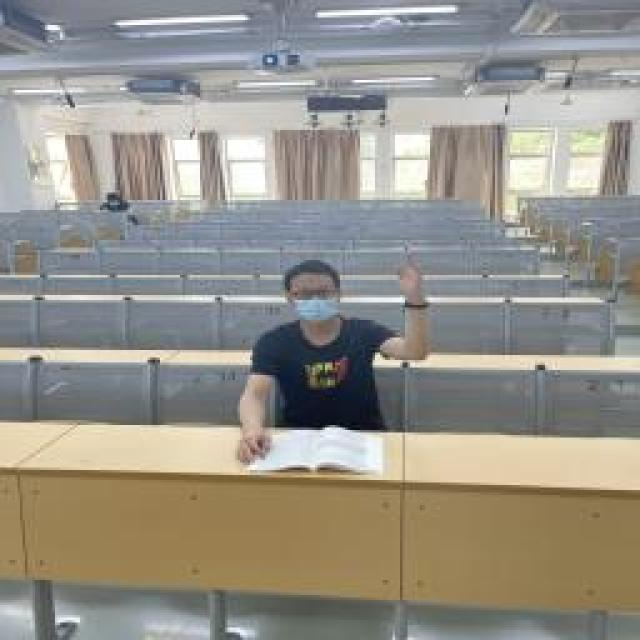study: (238, 255, 428, 470)
